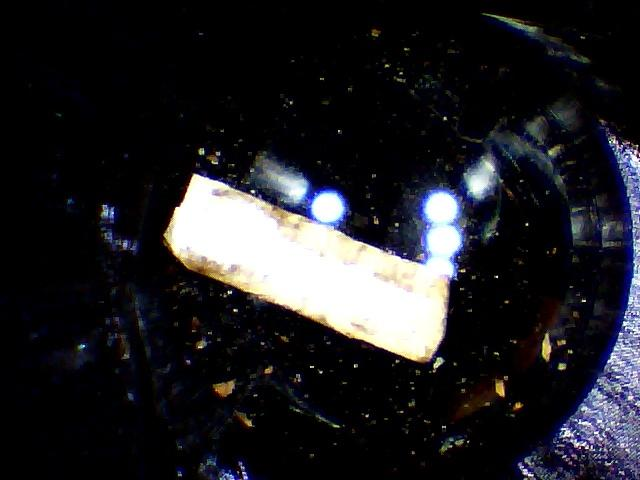megot: (156, 166, 457, 378)
